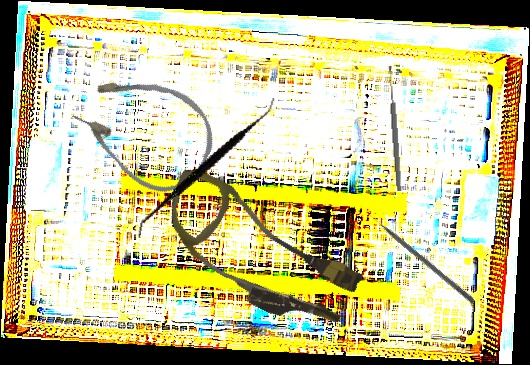Cannula: (143, 163, 375, 343), (59, 51, 229, 208)
Pusher: (365, 209, 476, 304)
Spatula Surgical: (136, 72, 278, 264)
Surgical Spoon: (387, 65, 403, 192)
